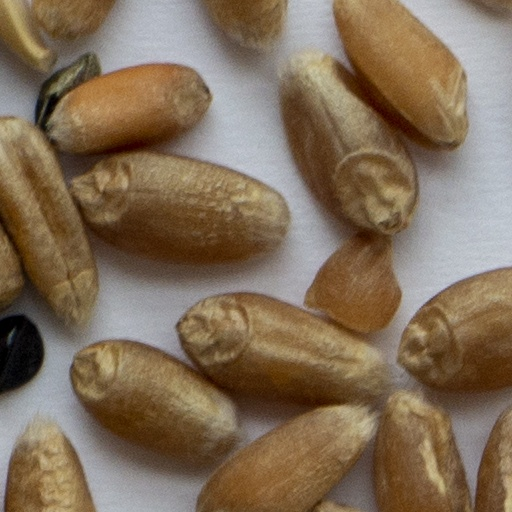Wheat-grain-damaged-poly: (301, 231, 404, 334)
